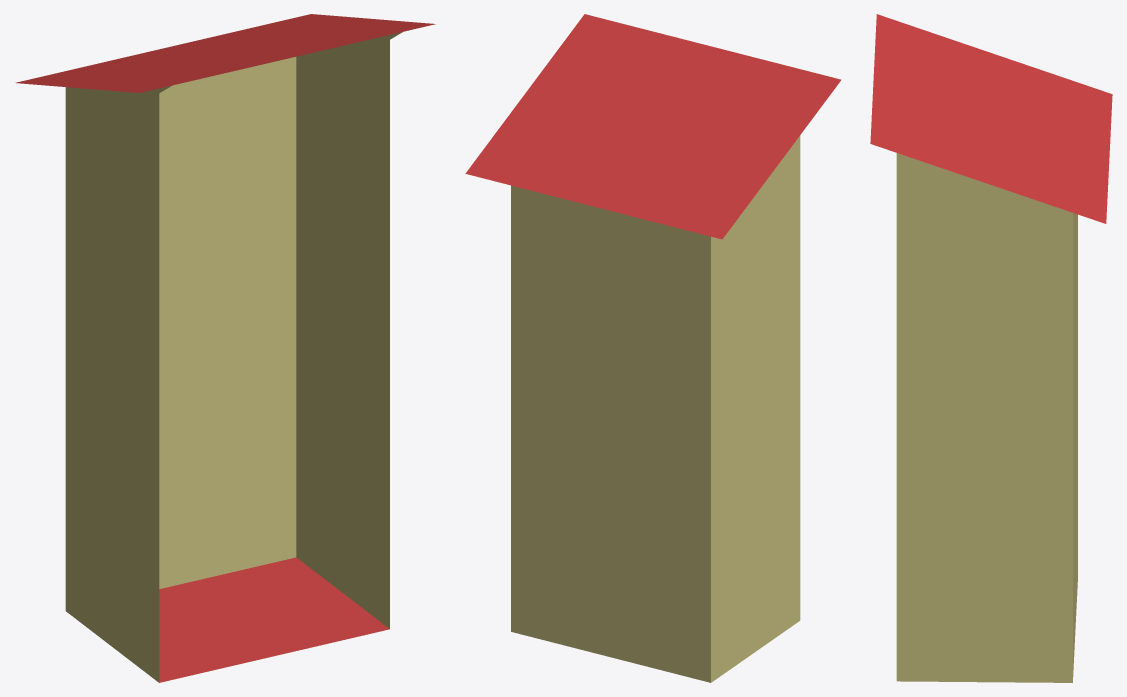
3 renders of one model, left to right at view 1: azimuth 30°, elevation 25°; view 2: azimuth 150°, elevation 25°; view 3: azimuth 270°, elevation 25°, orthographic. The views are drawn at different scales.
Bounding box in the file's own units: 4.58 × 3.55 × 8.92.
